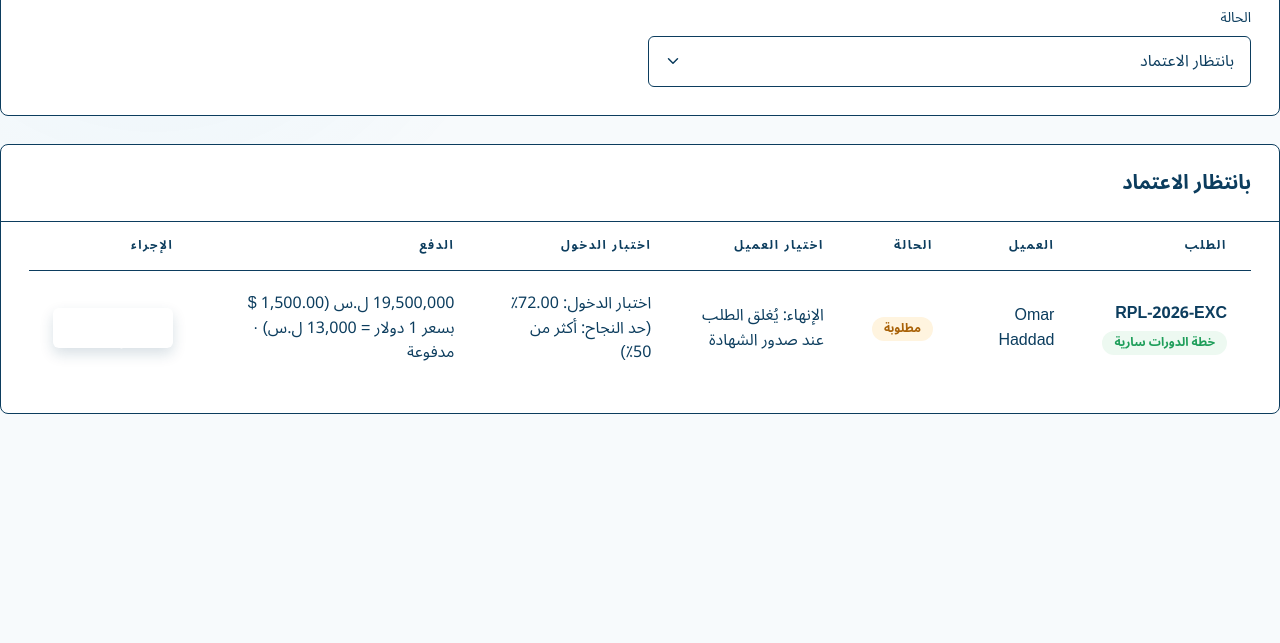
Test: the experience certificates queue (S7) › keeps the approval sentence on the page after the approved row leaves the list (ar)
Click the button "مراجعة واعتماد".
click(113, 328)  # box [53,308,174,348]
(page scrolled)
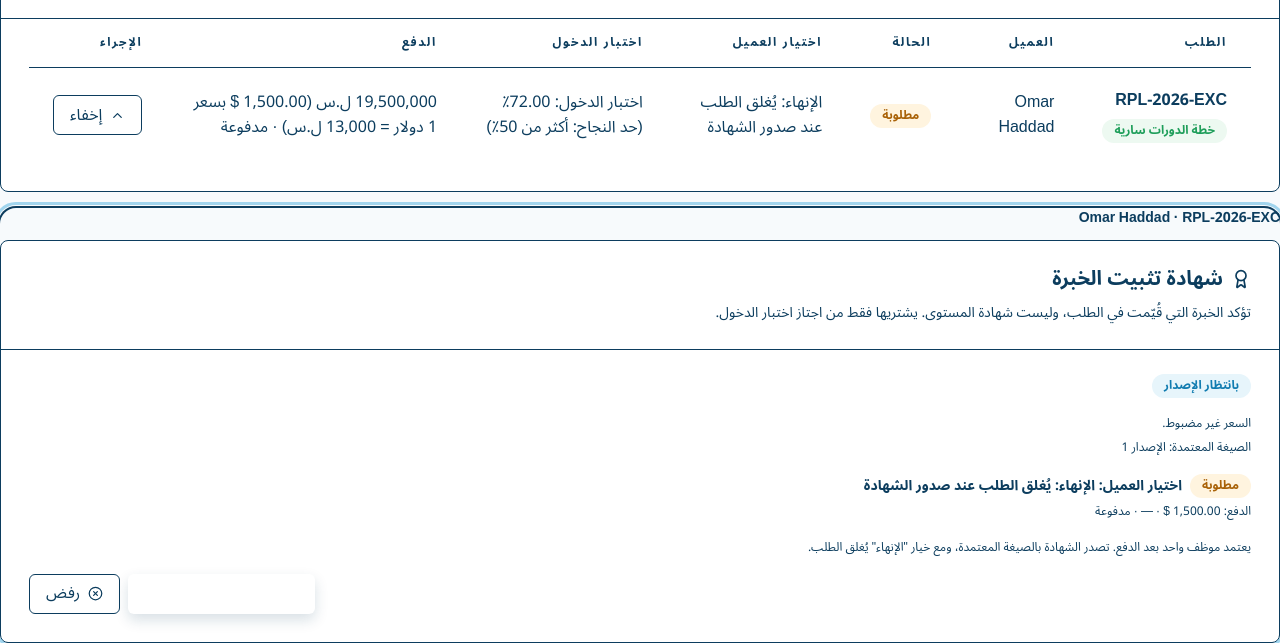
Click the button "اعتمد وأصدر الشهادة".
click(222, 594)  # box [128,574,315,614]
(page scrolled)
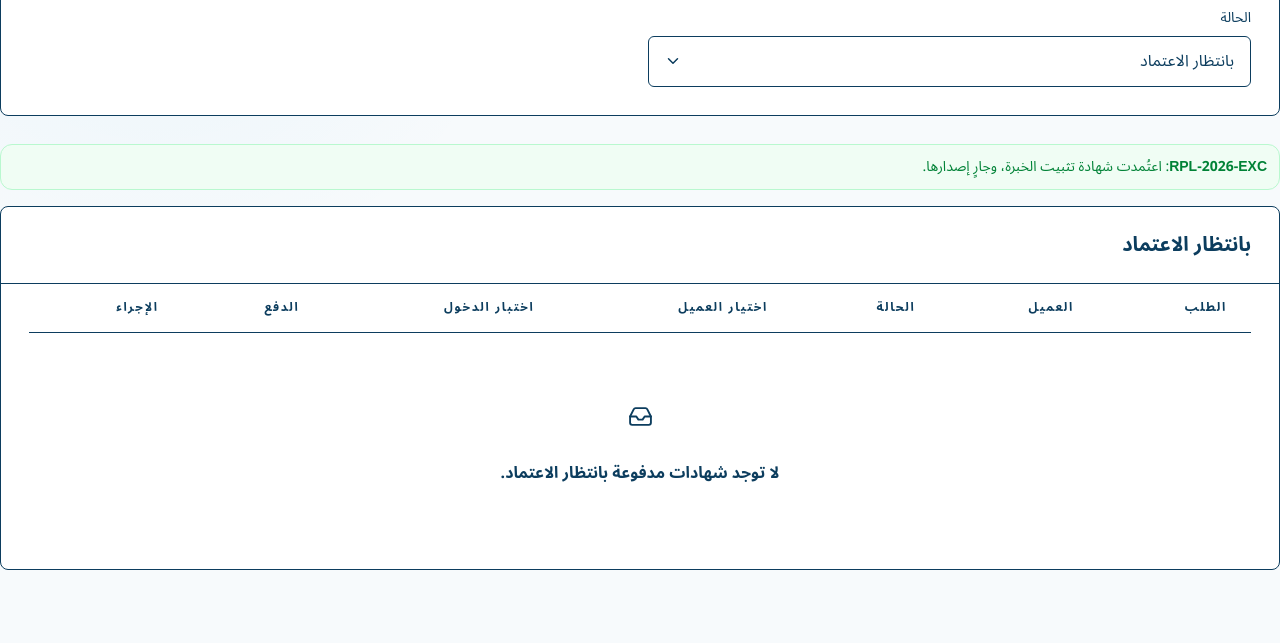
Check: the text "RPL-2026-EXC" is shown, box [1169,152,1267,181]
Check: the heading "لا توجد شهادات مدفوعة بانتظار الاعتماد." is shown, box [501,461,780,485]
Check: the message shows "اعتُمدت شهادة تثبيت الخبرة، وجارٍ إصدارها.", box [922,152,1162,181]
